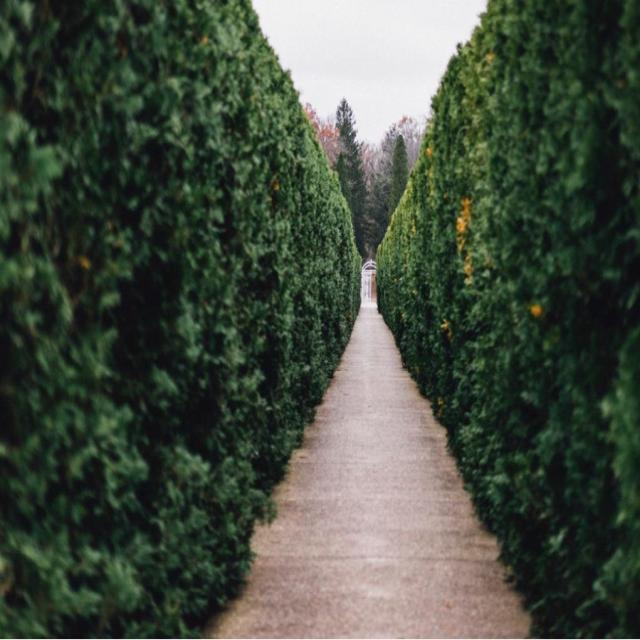row: (193, 301, 553, 638)
